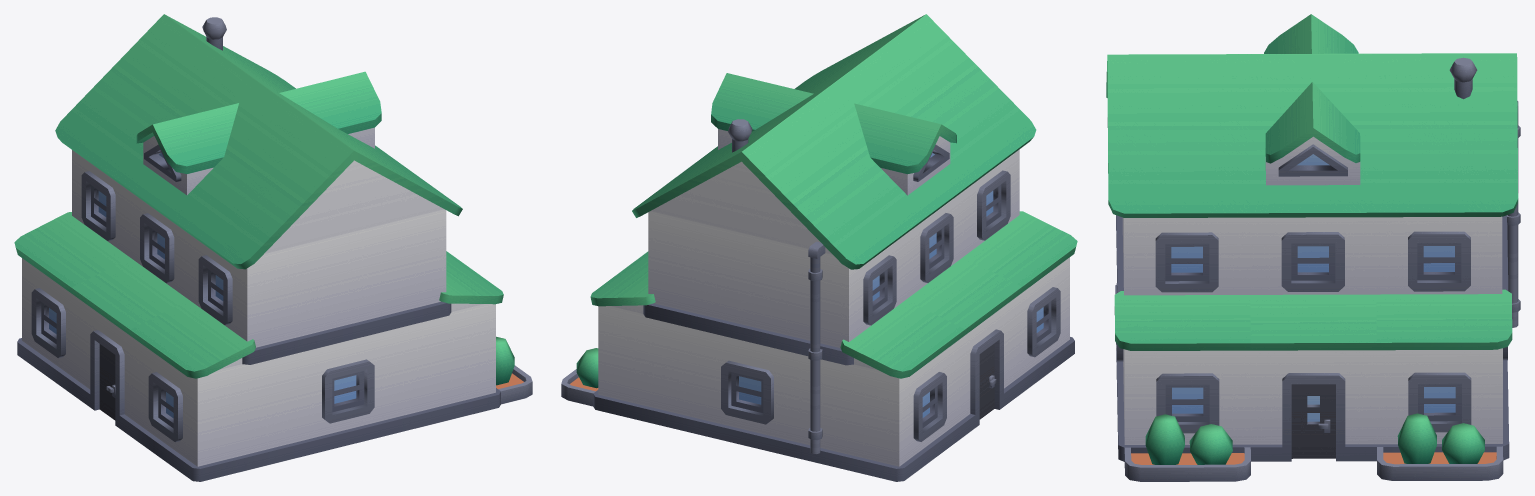
Rendered from building-type-t.017_lev3.glb.
The picture shows the model from 3 angles, left to right: view 1: azimuth 30°, elevation 25°; view 2: azimuth 150°, elevation 25°; view 3: azimuth 270°, elevation 25°; orthographic projection. The views are drawn at different scales.
Visible parts, largest first — view 1: building-type-t.017_lev3; view 2: building-type-t.017_lev3; view 3: building-type-t.017_lev3.
Boxes of the visible parts, <box> form: building-type-t.017_lev3: <box>14,14,532,481</box>; building-type-t.017_lev3: <box>561,14,1077,481</box>; building-type-t.017_lev3: <box>1106,14,1520,481</box>.
Bounding box in the file's own units: 7.08 × 5.78 × 6.57.
1 material, 1 textured.
